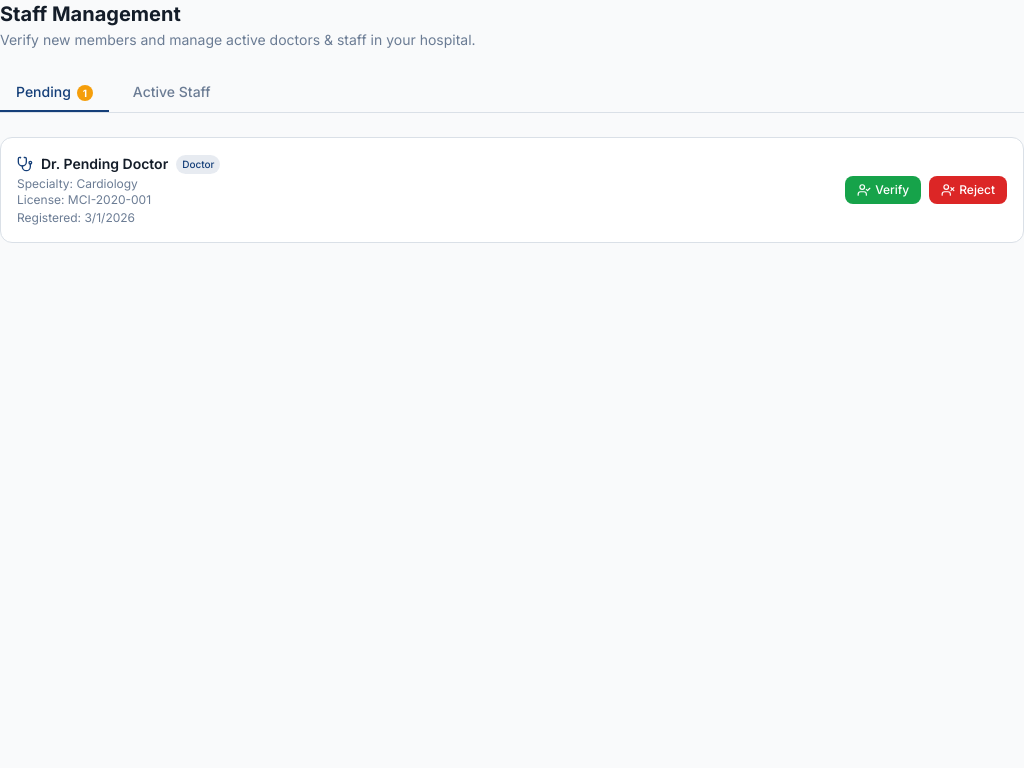
Test: StaffPage — Pending tab › opens verify modal on verify button click
The width and height of the screenshot is (1024, 768).
Click the button with test id "verify-btn" at (883, 190), box [845,176,921,204]
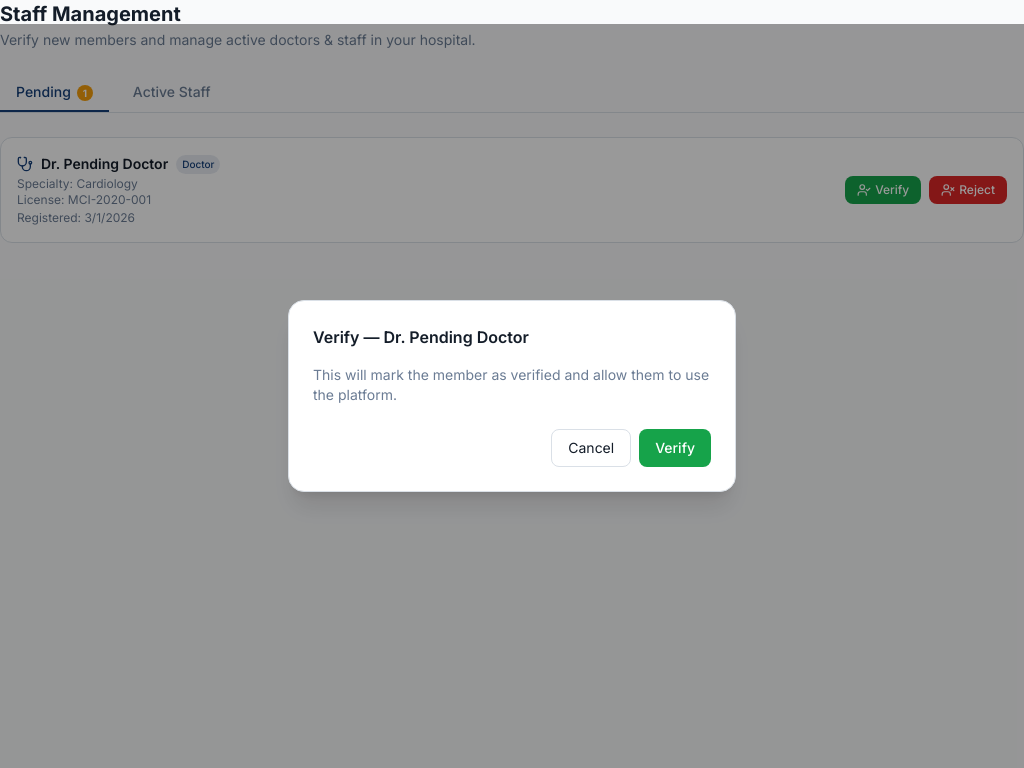
Expected: the element with test id "verify-modal" is shown
